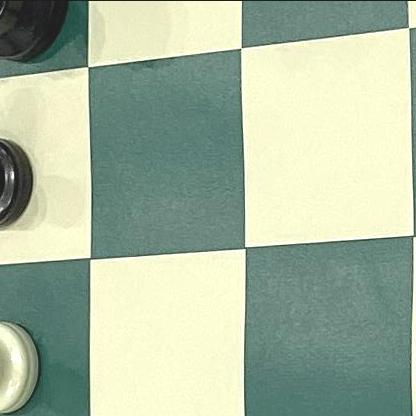black-pawn: (0, 131, 42, 241)
white-pawn: (0, 309, 52, 416)
